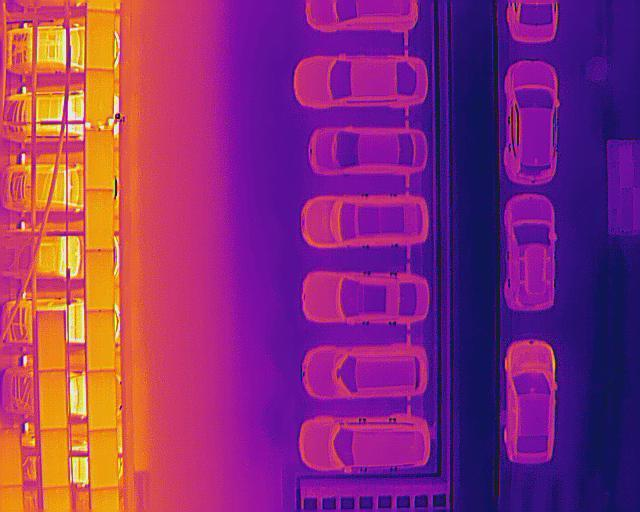Cell-Multi: (85, 69, 115, 131)
No-Anomaly: (34, 310, 67, 370), (37, 370, 69, 430), (87, 370, 119, 429), (84, 190, 115, 250), (86, 250, 115, 312), (84, 11, 114, 69), (90, 430, 119, 490), (87, 311, 115, 371), (42, 429, 70, 487), (86, 131, 114, 189), (0, 428, 22, 487)
